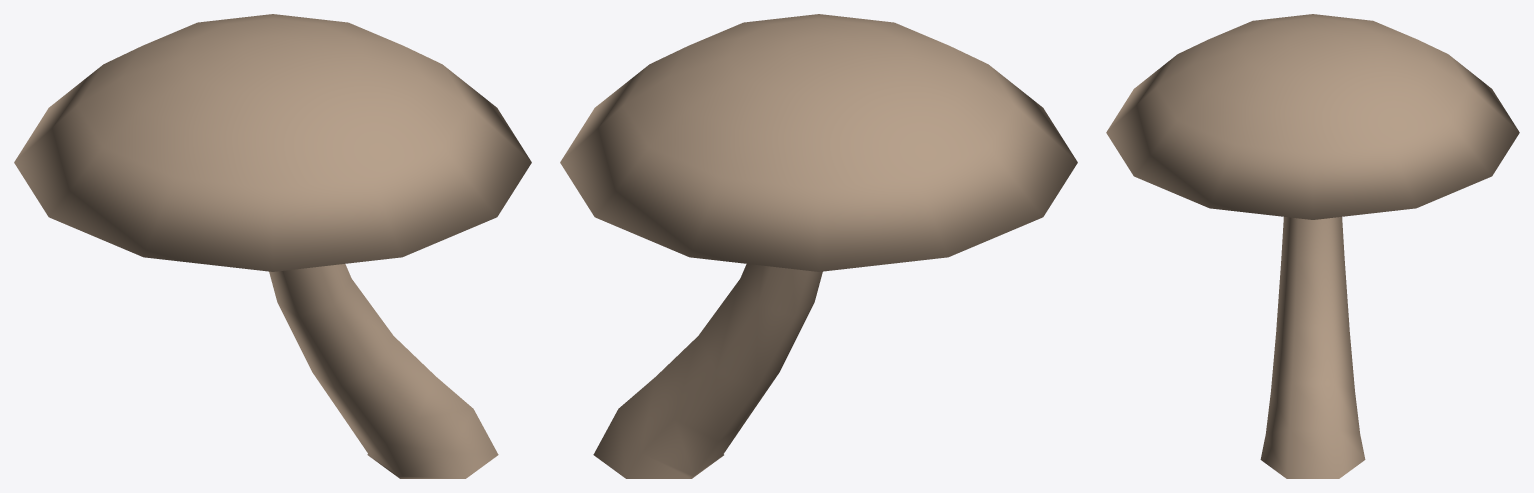
File: TheKidParasol.fbx
3 renders of one model, left to right at view 1: azimuth 30°, elevation 25°; view 2: azimuth 150°, elevation 25°; view 3: azimuth 270°, elevation 25°, orthographic. The views are drawn at different scales.
Visible parts, largest first — view 1: ParasolCap, ParasolTube; view 2: ParasolCap, ParasolTube; view 3: ParasolCap, ParasolTube.
Part boxes in pixels (x1,y1,x2,y2): ParasolCap: [14, 14, 531, 271]; ParasolTube: [269, 264, 498, 478]; ParasolCap: [560, 14, 1077, 271]; ParasolTube: [593, 264, 822, 478]; ParasolCap: [1106, 14, 1519, 219]; ParasolTube: [1260, 217, 1365, 478].
Bounding box in the file's own units: 11.45 × 11.45 × 10.83.
